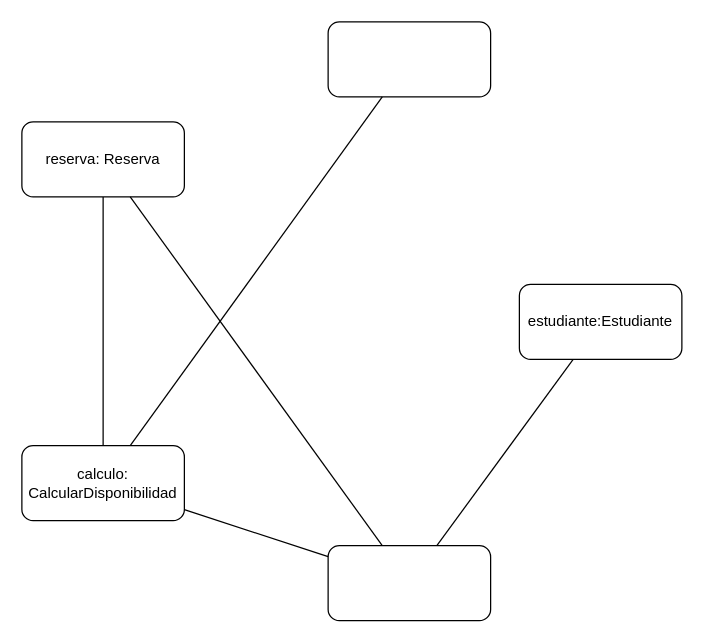
The diagram is 704 pixels wide and 643 high, and some of its shapes have lost their labels. The shapes that lost their labels are listed below. From the top down, each one's box as (x1, y1, x2, y2) in pixels, then its label:
(327, 21, 491, 97): evento: Evento
(327, 544, 491, 621): pantalla: PantallaEventos
